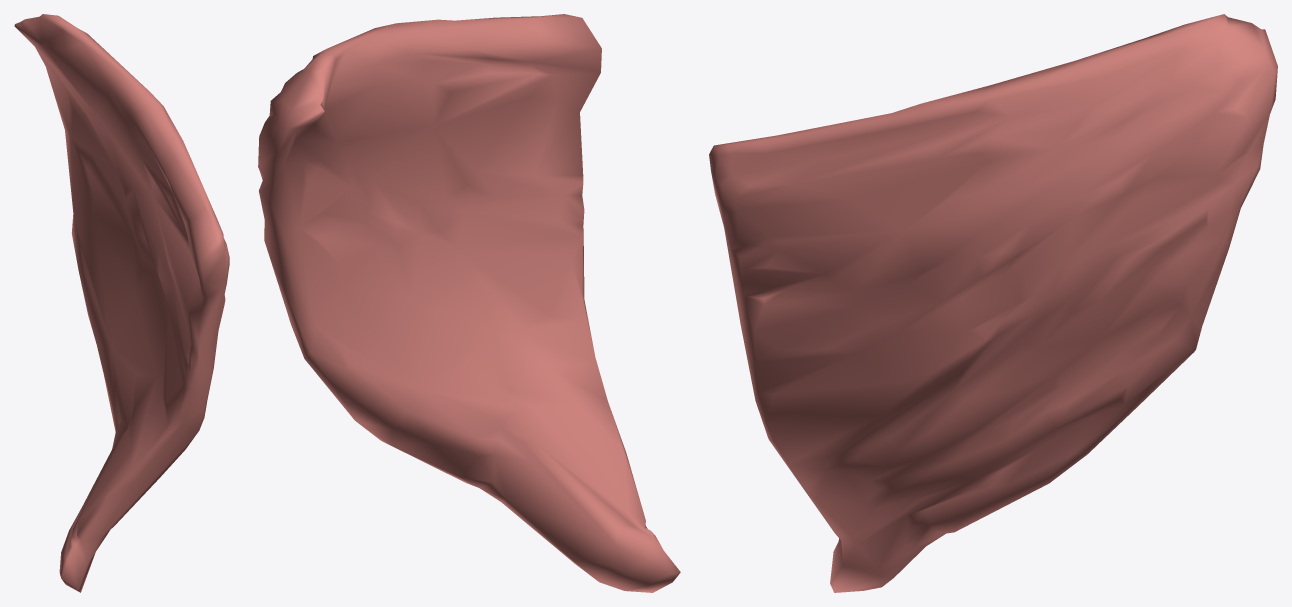
The picture shows the model from 3 angles, left to right: view 1: azimuth 30°, elevation 25°; view 2: azimuth 150°, elevation 25°; view 3: azimuth 270°, elevation 25°; orthographic projection. The views are drawn at different scales.
Parts seen in each view (by area): view 1: ZA_13ac05d8d27f664c; view 2: ZA_13ac05d8d27f664c; view 3: ZA_13ac05d8d27f664c.
Boxes of the visible parts, left/top/right/bottom form: ZA_13ac05d8d27f664c: left=14, top=14, right=229, bottom=592; ZA_13ac05d8d27f664c: left=258, top=14, right=680, bottom=592; ZA_13ac05d8d27f664c: left=709, top=14, right=1277, bottom=592.
Bounding box in the file's own units: 0.015 × 0.0363 × 0.0289.
